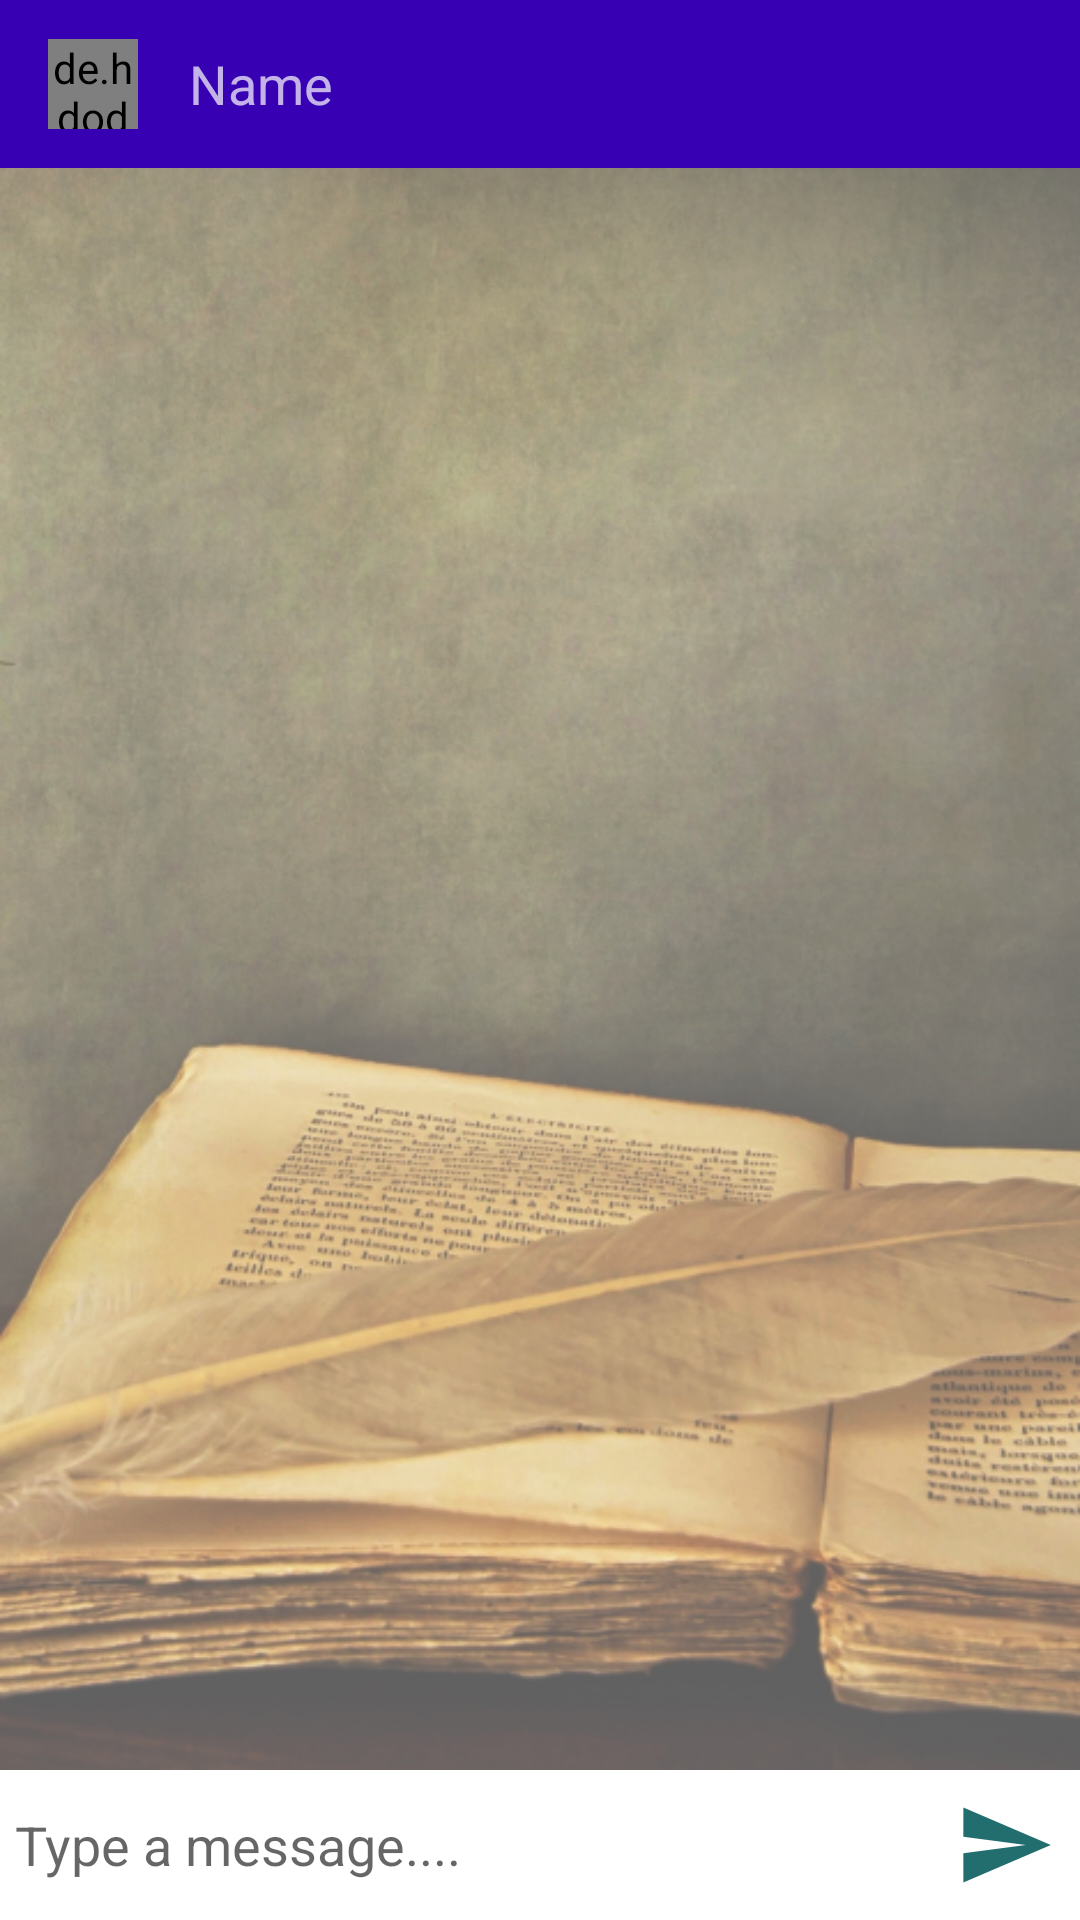

Point at icon controls on the screen. Image size 1080 × 1920, points as point (x, y).
send: point (1007, 1845)
